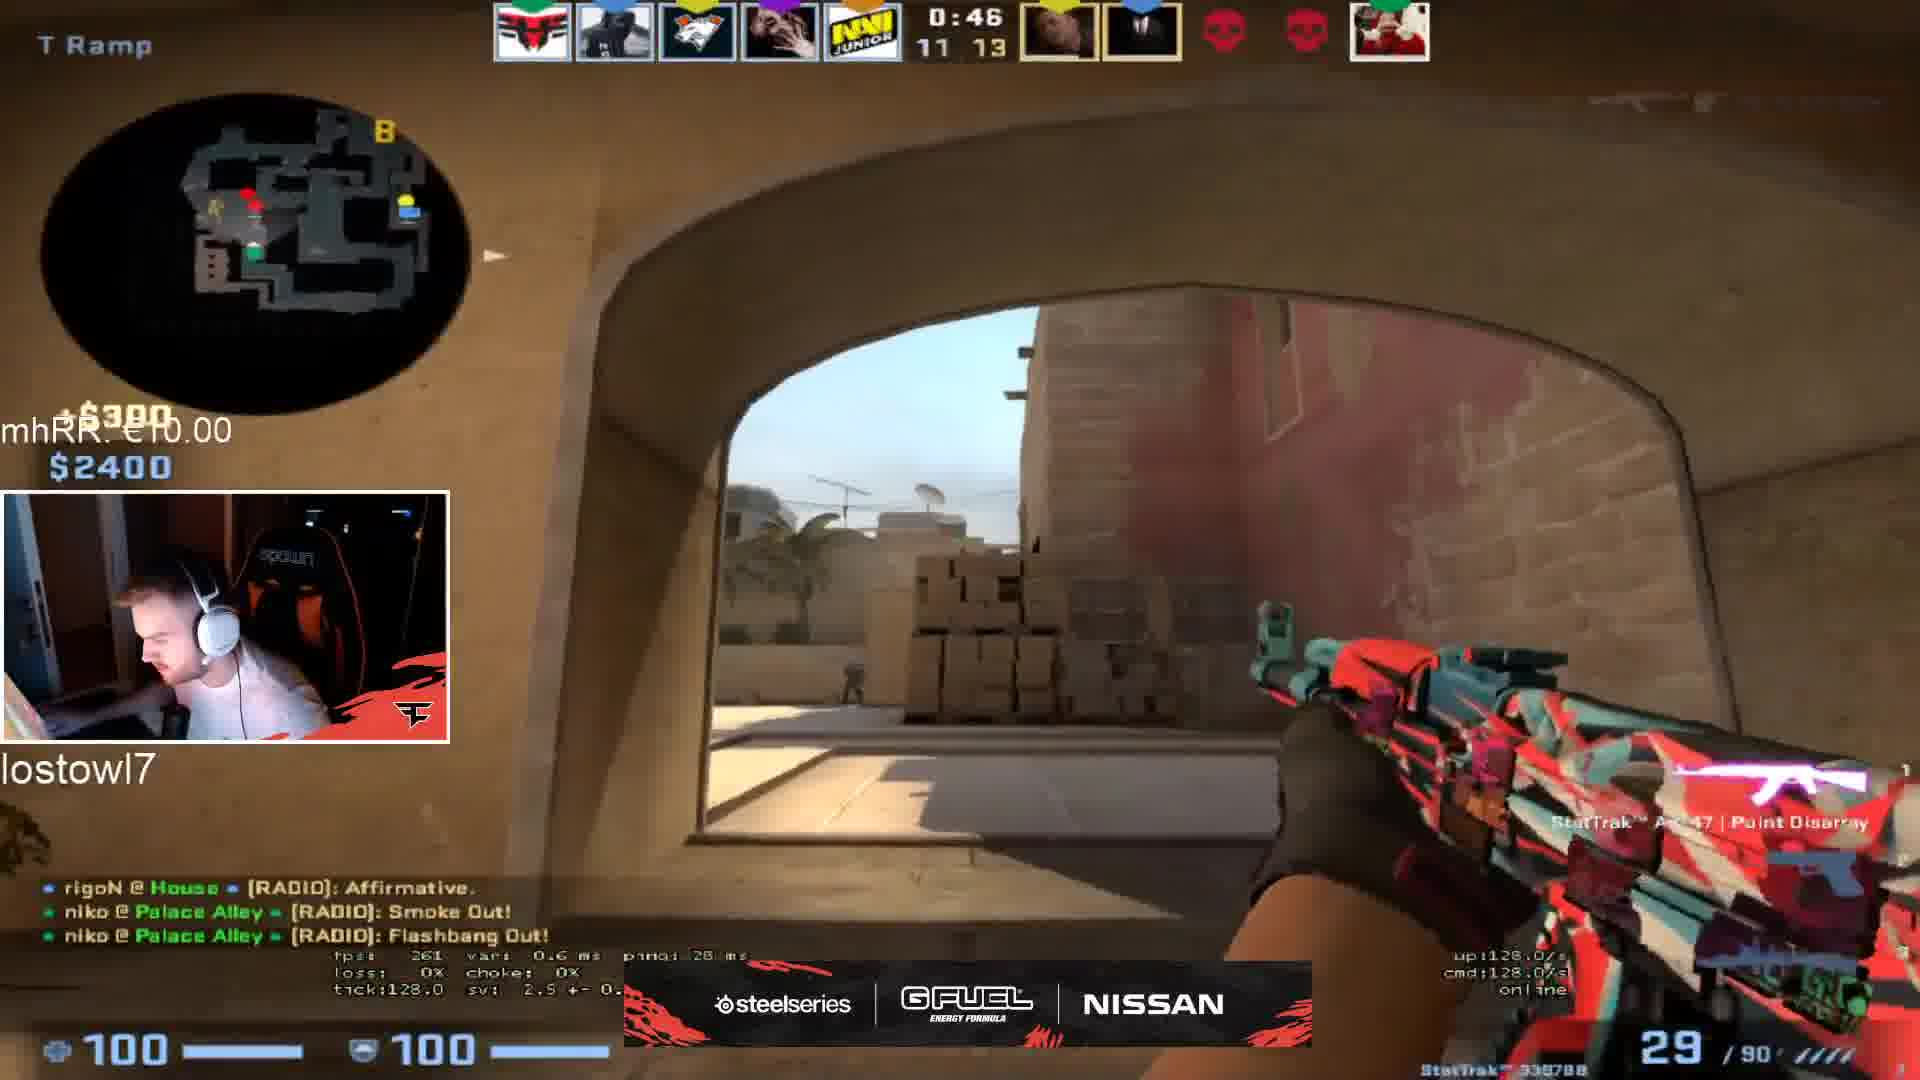enemy: (835, 655, 872, 712)
